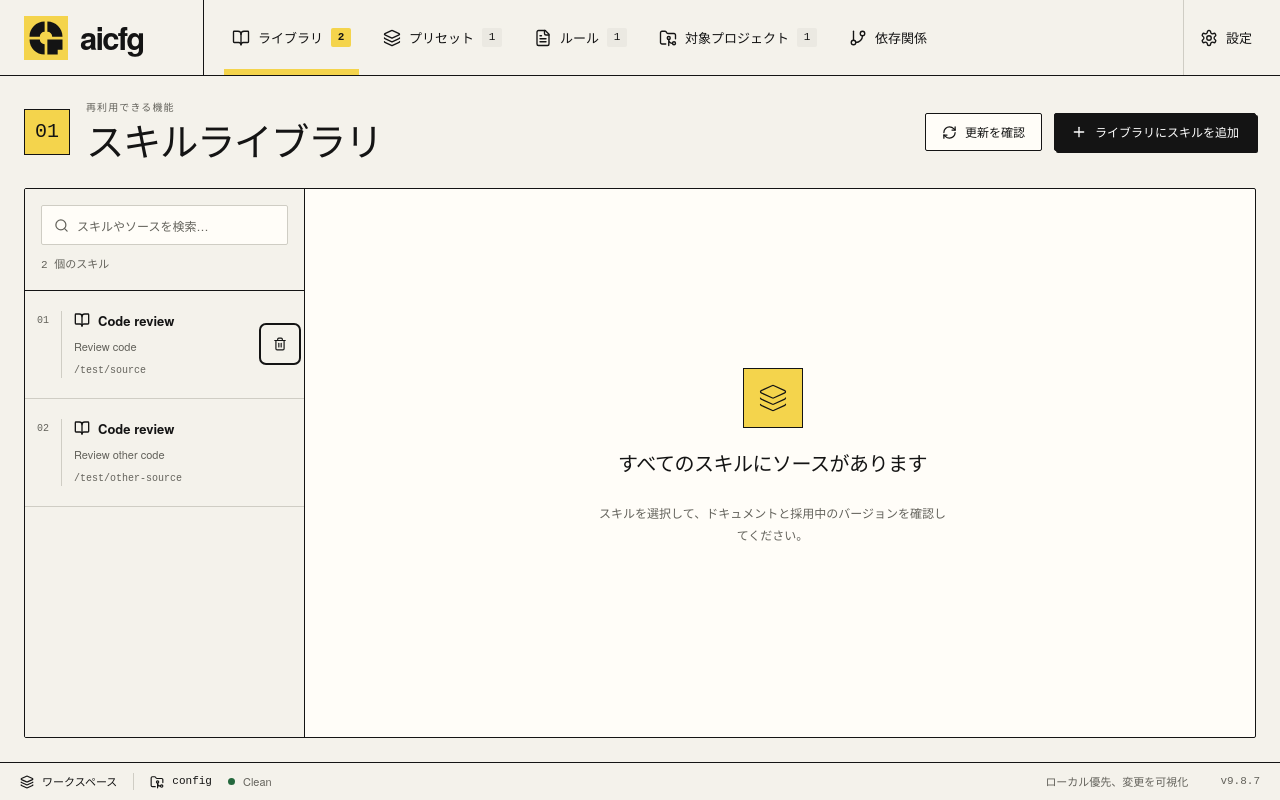
Test case: Localized deletion confirmations (ja) › translates Library skill confirmation and preserves the item name
The image size is (1280, 800).
Click the button named "Code review を削除".
click(280, 344)  # box [264,328,296,360]
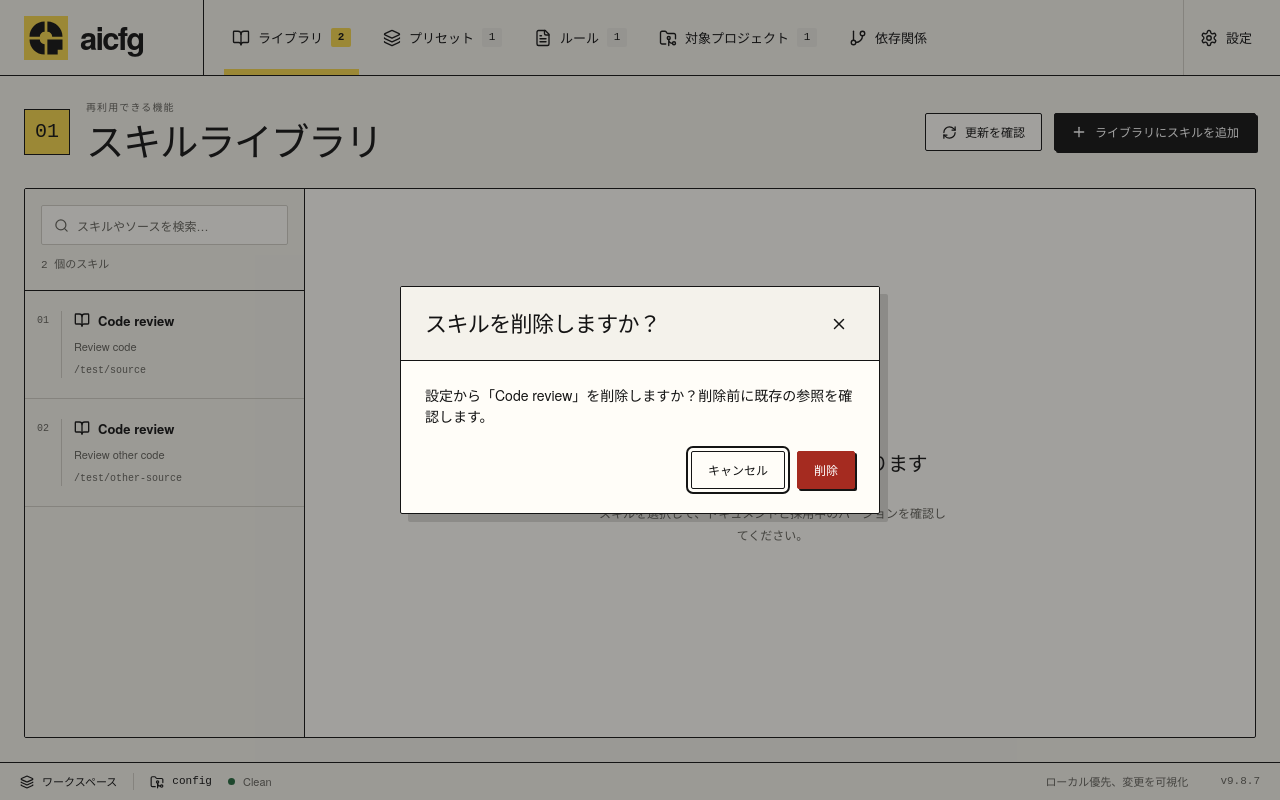
Now the heading "スキルを削除しますか？" is shown, box [425,307,660,340]
Now the text "設定から「Code review」を削除しますか？削除前に既存の参照を確認します。" is shown, box [425,385,855,427]
Click the button "キャンセル".
click(738, 470)  # box [691,451,785,489]
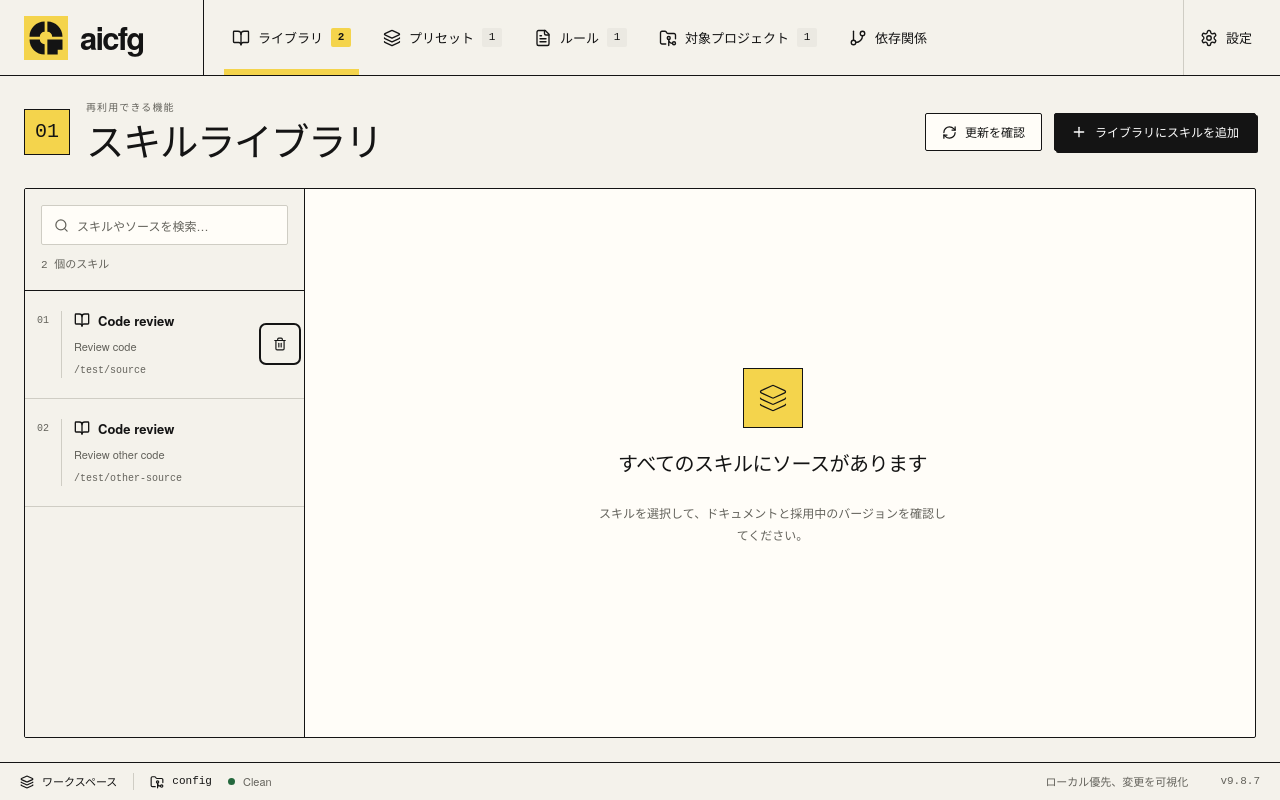
Now the dialog is gone
